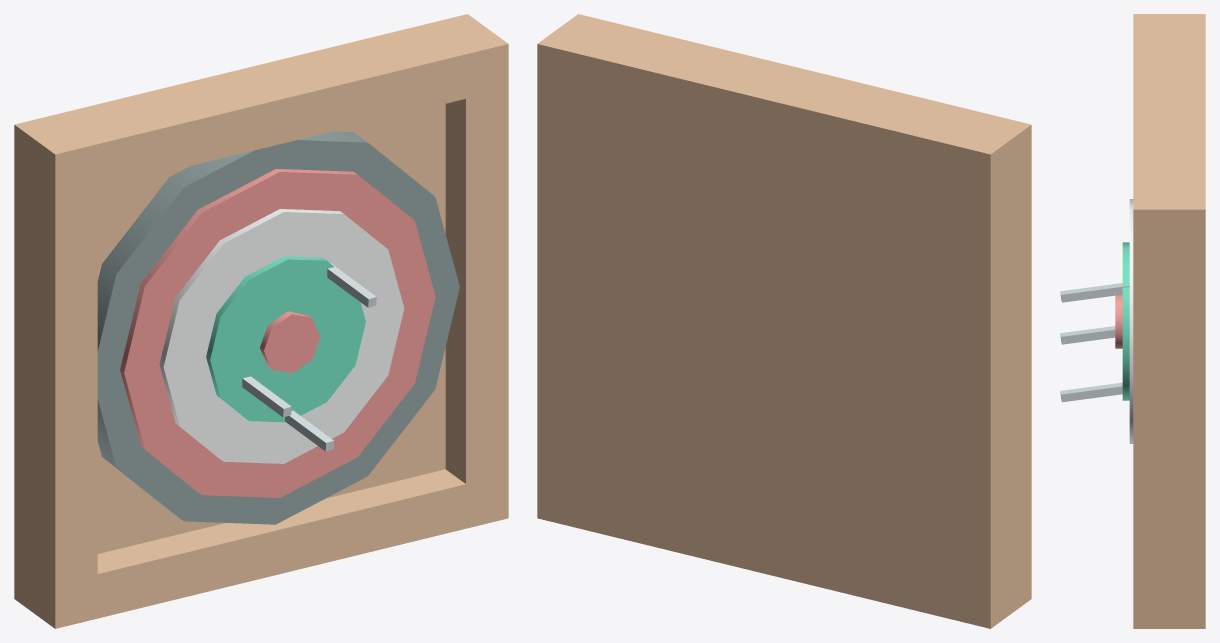
File: dartBoard.glb
3 renders of one model, left to right at view 1: azimuth 30°, elevation 25°; view 2: azimuth 150°, elevation 25°; view 3: azimuth 270°, elevation 25°, orthographic. The views are drawn at different scales.
Visible parts, largest first — view 1: dartBoard; view 2: dartBoard; view 3: dartBoard.
Part boxes in pixels (bbox=[...]): dartBoard: bbox=[14, 14, 508, 628]; dartBoard: bbox=[537, 14, 1031, 628]; dartBoard: bbox=[1060, 14, 1205, 628].
Bounding box in the file's own units: 0.32 × 0.32 × 0.1006.
